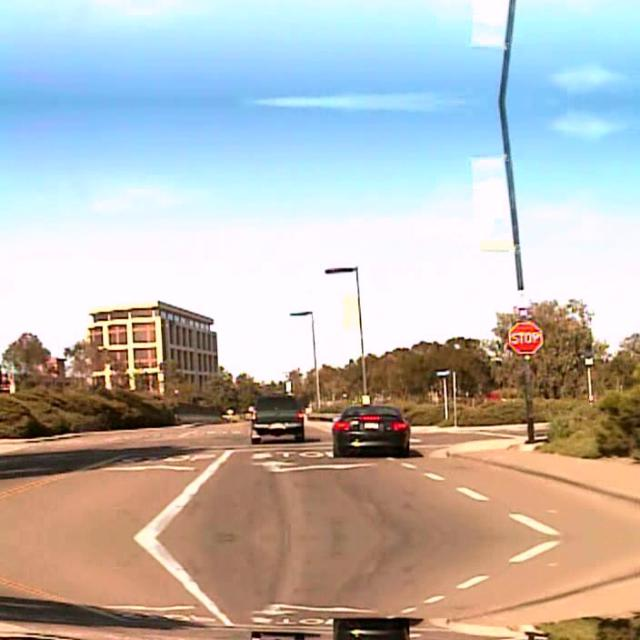stop: (507, 319, 543, 353)
